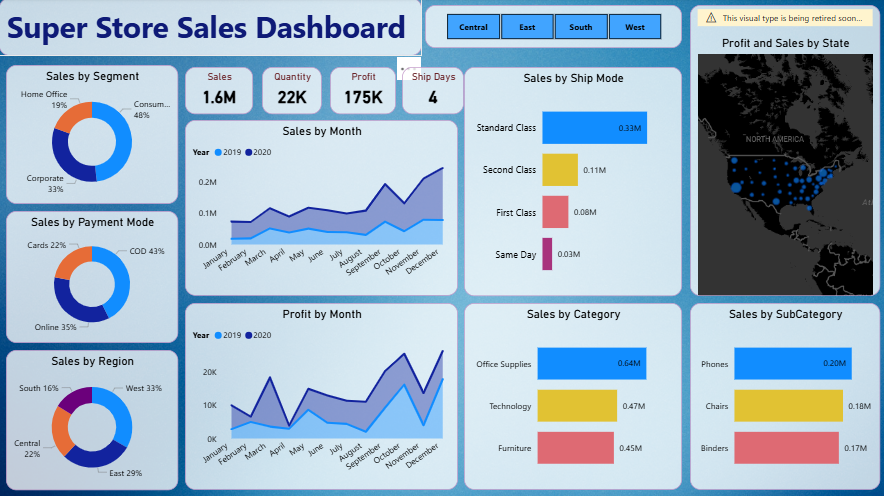

What the dashboard file says about the page in this screenshot:
{"tool":"powerbi","page":{"name":"Page 1","canvas":[1280,720],"ordinal":0},"visuals":[{"type":"clusteredBarChart","title":"Sales by Category","fields":{"Category":["SuperStore_Sales_Dataset.Category"],"Y":["Sum(SuperStore_Sales_Dataset.Sales)"]},"box":[669.6,439.2,313.9,269.3],"z":0},{"type":"clusteredBarChart","title":"Sales by Ship Mode","fields":{"Category":["SuperStore_Sales_Dataset.Ship Mode"],"Y":["Sum(SuperStore_Sales_Dataset.Sales)"]},"box":[669.6,99.4,313.9,329.8],"z":1000},{"type":"stackedAreaChart","title":"Sales by Month","fields":{"Y":["Sum(SuperStore_Sales_Dataset.Sales)"],"Category":["SuperStore_Sales_Dataset.Order Date.Variation.Date Hierarchy.Month"],"Series":["SuperStore_Sales_Dataset.Order Date.Variation.Date Hierarchy.Year"]},"box":[267.8,175.7,393.1,253.4],"z":2000},{"type":"stackedAreaChart","title":"Profit by Month","fields":{"Category":["SuperStore_Sales_Dataset.Order Date.Variation.Date Hierarchy.Month"],"Series":["SuperStore_Sales_Dataset.Order Date.Variation.Date Hierarchy.Year"],"Y":["Sum(SuperStore_Sales_Dataset.Profit)"]},"box":[267.8,439.2,393.1,269.3],"z":3000},{"type":"map","title":"Profit and Sales by State","fields":{"Category":["SuperStore_Sales_Dataset.State"],"Size":["Sum(SuperStore_Sales_Dataset.Sales)"]},"box":[995,10.1,273.6,419],"z":4000},{"type":"donutChart","title":"Sales by Segment","fields":{"Category":["SuperStore_Sales_Dataset.Segment"],"Y":["Sum(SuperStore_Sales_Dataset.Sales)"]},"box":[10.1,96.5,247.7,200.2],"z":5000},{"type":"donutChart","title":"Sales by Region","fields":{"Category":["SuperStore_Sales_Dataset.Region"],"Y":["Sum(SuperStore_Sales_Dataset.Sales)"]},"box":[10.1,506.9,247.7,201.6],"z":6000},{"type":"donutChart","title":"Sales by Payment Mode","fields":{"Category":["SuperStore_Sales_Dataset.Payment Mode"],"Y":["Sum(SuperStore_Sales_Dataset.Sales)"]},"box":[10.1,306.7,247.7,190.1],"z":7000},{"type":"slicer","fields":{"Values":["SuperStore_Sales_Dataset.Region"]},"box":[613.4,10.1,370.1,61.9],"z":8000},{"type":"textbox","box":[0,0,609,83],"z":9000},{"type":"card","title":"Sales","fields":{"Values":["Sum(SuperStore_Sales_Dataset.Sales)"]},"box":[267.1,97.1,101.4,67.1],"z":10000},{"type":"card","title":"Quantity","fields":{"Values":["Sum(SuperStore_Sales_Dataset.Quantity)"]},"box":[377.1,97.1,87.1,67.1],"z":11000},{"type":"card","title":"Profit","fields":{"Values":["Sum(SuperStore_Sales_Dataset.Profit)"]},"box":[477.1,97.1,94.3,67.1],"z":12000},{"type":"card","title":"Profit","fields":{"Values":["Avg(SuperStore_Sales_Dataset.AvgDelivery)"]},"box":[580,97.1,81.4,67.1],"z":13000},{"type":"clusteredBarChart","title":"Sales by SubCategory","fields":{"Category":["SuperStore_Sales_Dataset.Sub-Category"],"Y":["Sum(SuperStore_Sales_Dataset.Sales)"]},"box":[995,439.2,273.6,269.3],"z":14000}]}

Visuals, with their boxes in screenshot pixels (x1, y1, x2, y2), scaled from the page's 1280x720 canvas onto the 884x496 screenshot:
"Sales by Category" clusteredBarChart: 462, 303, 679, 488
"Sales by Ship Mode" clusteredBarChart: 462, 68, 679, 296
"Sales by Month" stackedAreaChart: 185, 121, 456, 296
"Profit by Month" stackedAreaChart: 185, 303, 456, 488
"Profit and Sales by State" map: 687, 7, 876, 296
"Sales by Segment" donutChart: 7, 66, 178, 204
"Sales by Region" donutChart: 7, 349, 178, 488
"Sales by Payment Mode" donutChart: 7, 211, 178, 342
slicer - SuperStore_Sales_Dataset.Region: 424, 7, 679, 50
textbox: 0, 0, 421, 57
"Sales" card: 184, 67, 254, 113
"Quantity" card: 260, 67, 321, 113
"Profit" card: 329, 67, 395, 113
"Profit" card: 401, 67, 457, 113
"Sales by SubCategory" clusteredBarChart: 687, 303, 876, 488
